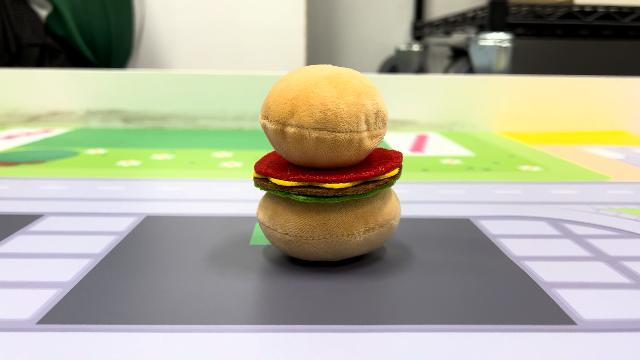burger: (248, 60, 408, 264)
